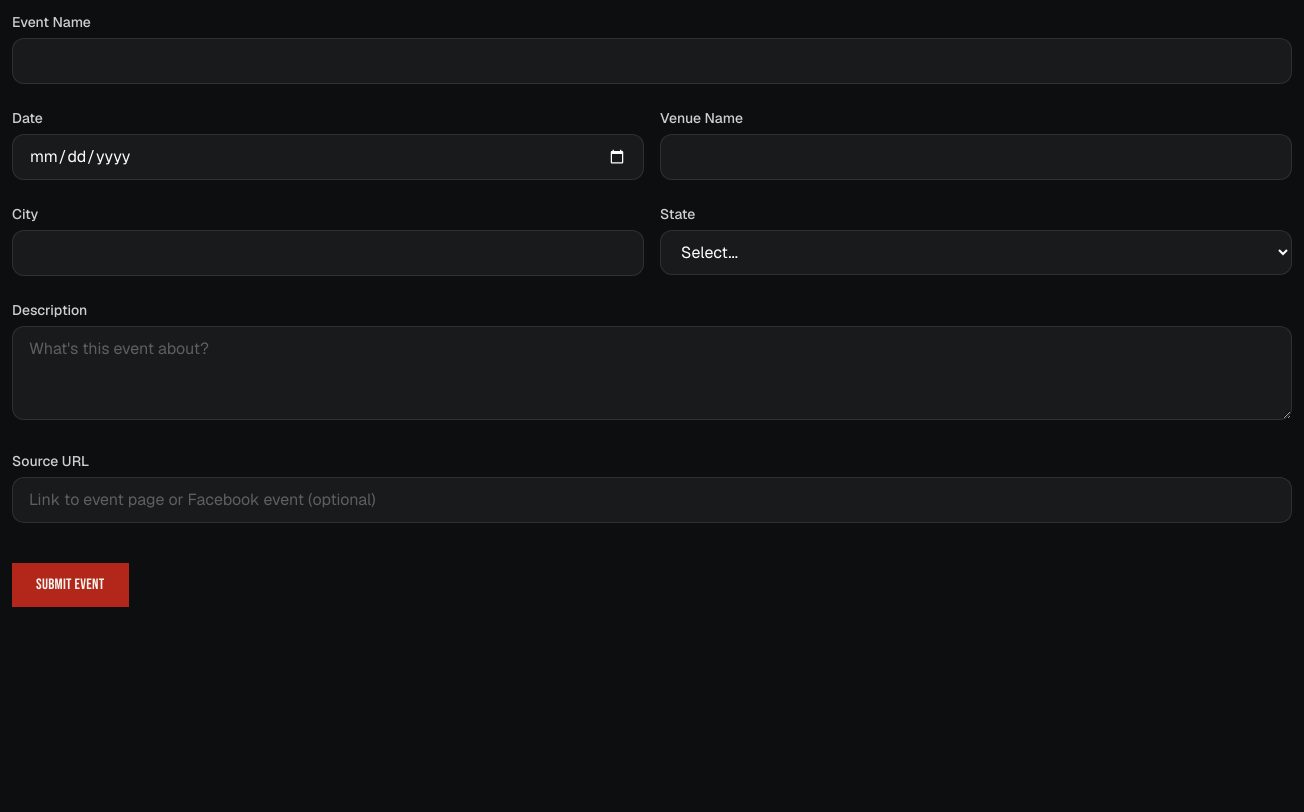
it: EventSubmitForm › shows validation error when required fields are empty
Click the button "Submit Event" at coordinates (70, 585), box [12,563,129,607]
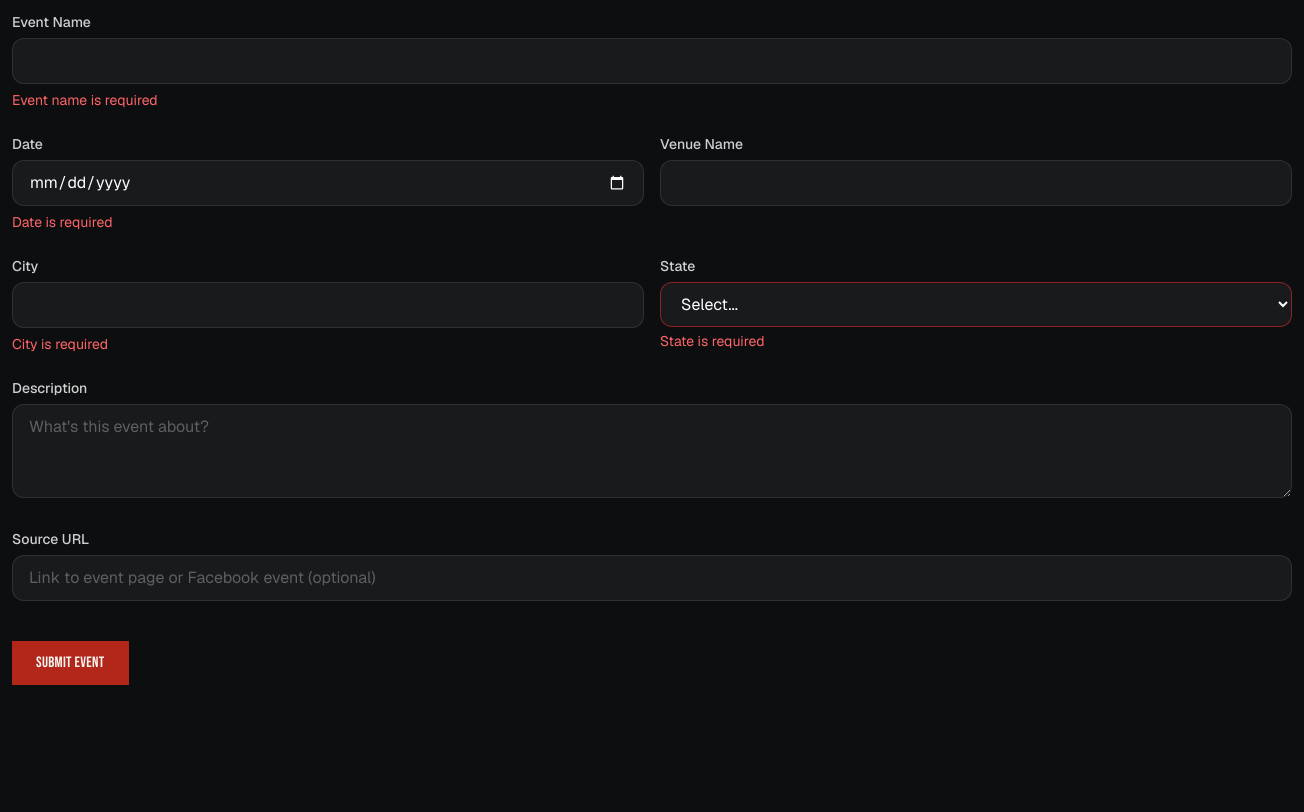
Now the text "Event name is required" is shown, box [12,91,158,109]
